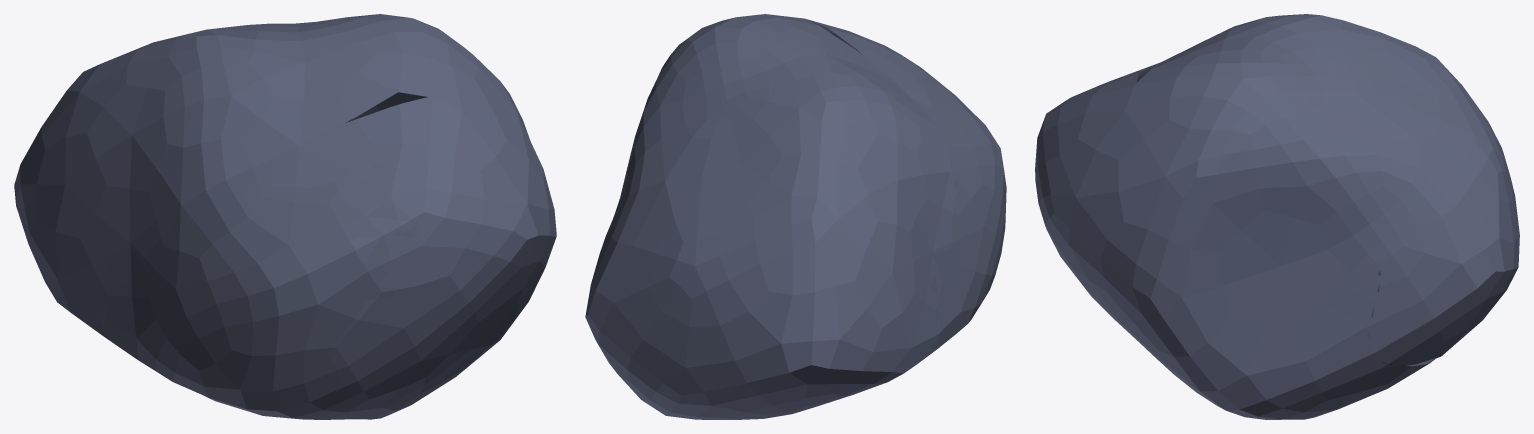
Rendered from roche.fbx.
3 renders of one model, left to right at view 1: azimuth 30°, elevation 25°; view 2: azimuth 150°, elevation 25°; view 3: azimuth 270°, elevation 25°, orthographic. The views are drawn at different scales.
Visible parts, largest first — view 1: Icosphere.001; view 2: Icosphere.001; view 3: Icosphere.001.
Part boxes in pixels (<box>): Icosphere.001: <box>14,14,556,419</box>; Icosphere.001: <box>585,14,1006,419</box>; Icosphere.001: <box>1035,14,1519,419</box>.
Size of the model in its own units: 59.67 by 57.97 by 74.44.
1 material, 1 textured.
